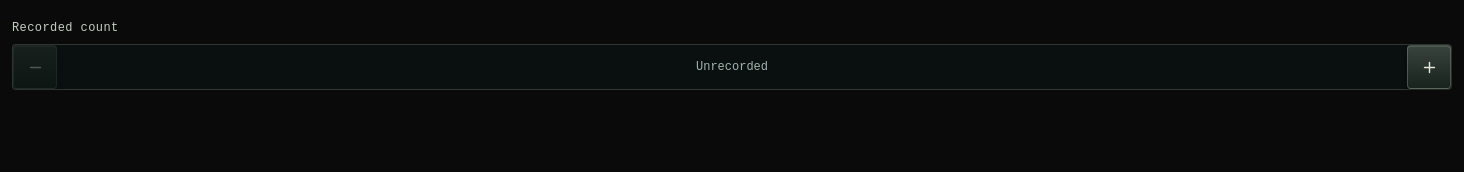
Test: keeps unknown, explicit zero, corrections, and clear distinct
Expected: the field labelled "Recorded count" is empty, 64,45 -> 1400,89
Expected: the button named "Decrease Recorded count" is disabled, 13,45 -> 57,89
Click the button named "Increase Recorded count": x=1429, y=67 1407,45 -> 1451,89
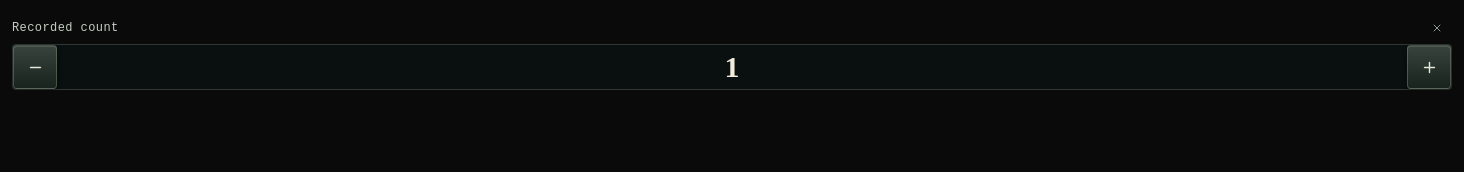
Expected: the field labelled "Recorded count" holds "1", 64,45 -> 1400,89
Click the button named "Decrease Recorded count": x=35, y=67 13,45 -> 57,89
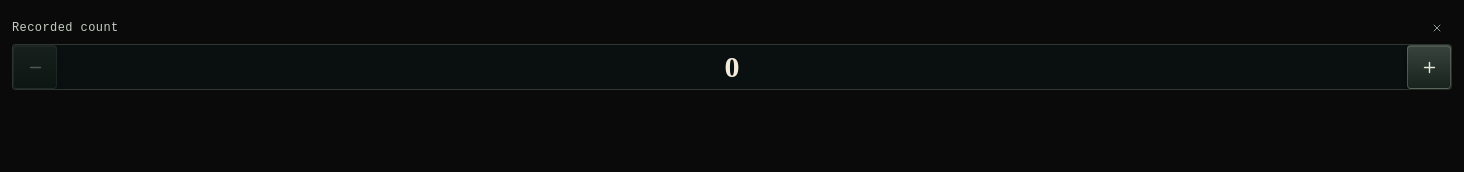
Expected: the field labelled "Recorded count" holds "0", 64,45 -> 1400,89
Click the button named "Clear Recorded count": x=1437, y=28 1422,13 -> 1452,43
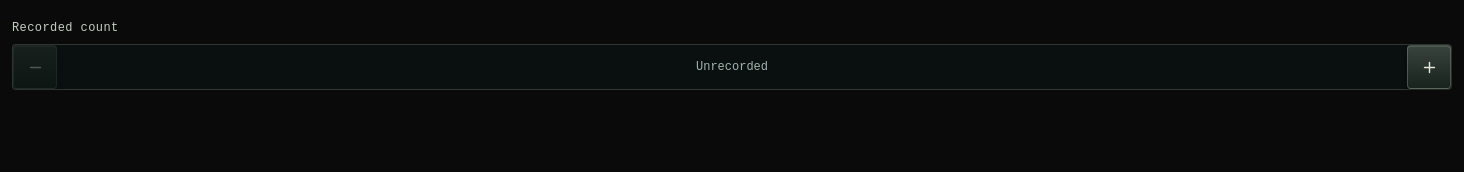
Expected: the field labelled "Recorded count" is empty, 64,45 -> 1400,89
